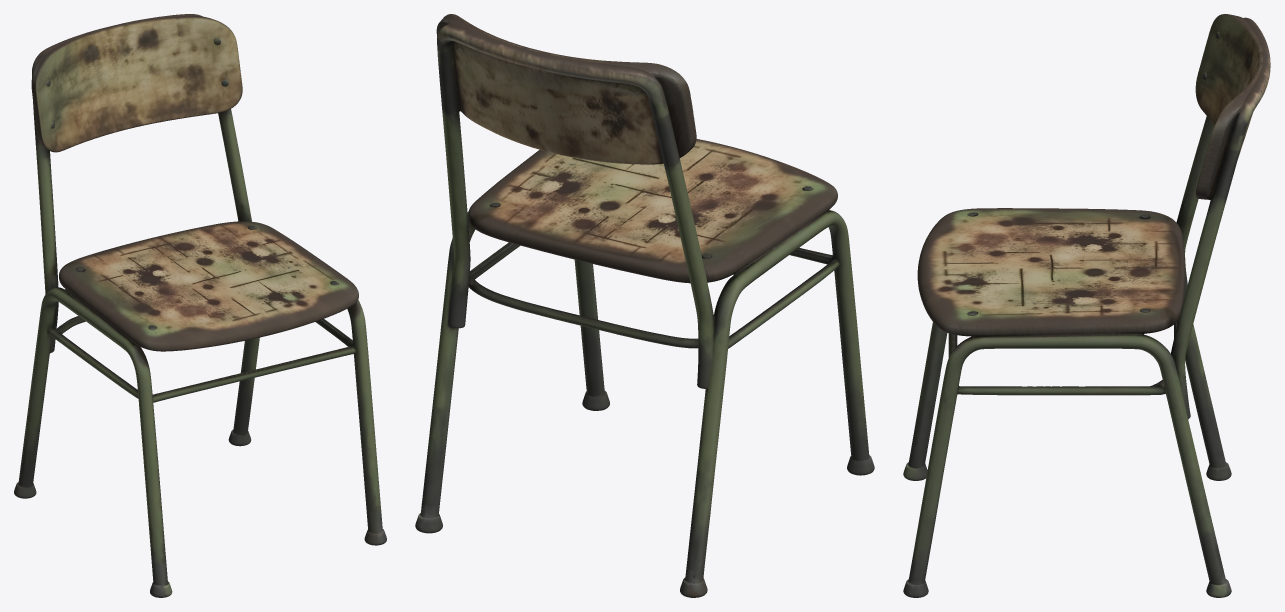
The model's file is Meshy_AI_okul_sandalyesi_0311112701_texture.fbx.
3 renders of one model, left to right at view 1: azimuth 30°, elevation 25°; view 2: azimuth 150°, elevation 25°; view 3: azimuth 270°, elevation 25°, orthographic. The views are drawn at different scales.
Parts seen in each view (by area): view 1: Mesh_0; view 2: Mesh_0; view 3: Mesh_0.
Part boxes in pixels (bbox=[...]): Mesh_0: bbox=[14, 14, 386, 597]; Mesh_0: bbox=[415, 14, 874, 597]; Mesh_0: bbox=[903, 14, 1270, 597].
Bounding box in the file's own units: 115 × 200 × 139.
1 material, 1 textured.
